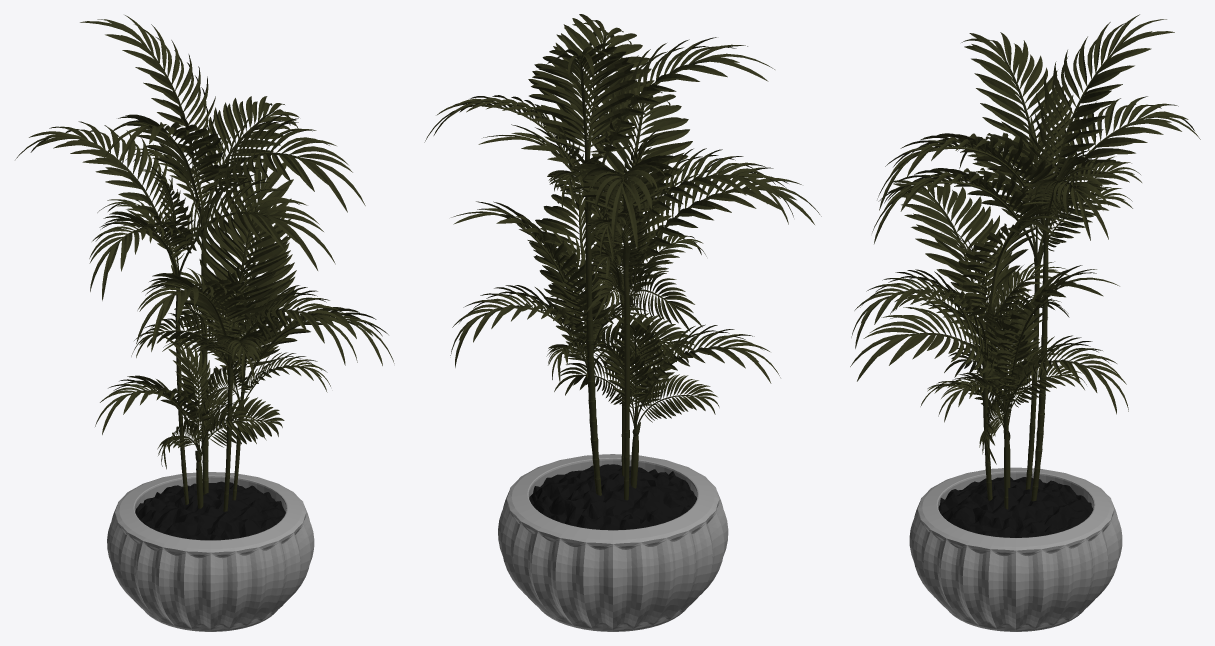
Rendered from potted-plant-16.obj.
3 views of the same model, side by side, from view 1: azimuth 30°, elevation 25°; view 2: azimuth 150°, elevation 25°; view 3: azimuth 270°, elevation 25° (orthographic). The views are drawn at different scales.
Parts seen in each view (by area): view 1: Outdoor_plants_flowers_069; view 2: Outdoor_plants_flowers_069; view 3: Outdoor_plants_flowers_069.
Part boxes in pixels (<box>): Outdoor_plants_flowers_069: <box>15,15,394,631</box>; Outdoor_plants_flowers_069: <box>424,14,821,631</box>; Outdoor_plants_flowers_069: <box>850,14,1200,631</box>.
Size of the model in its own units: 77.04 by 153 by 86.02.
